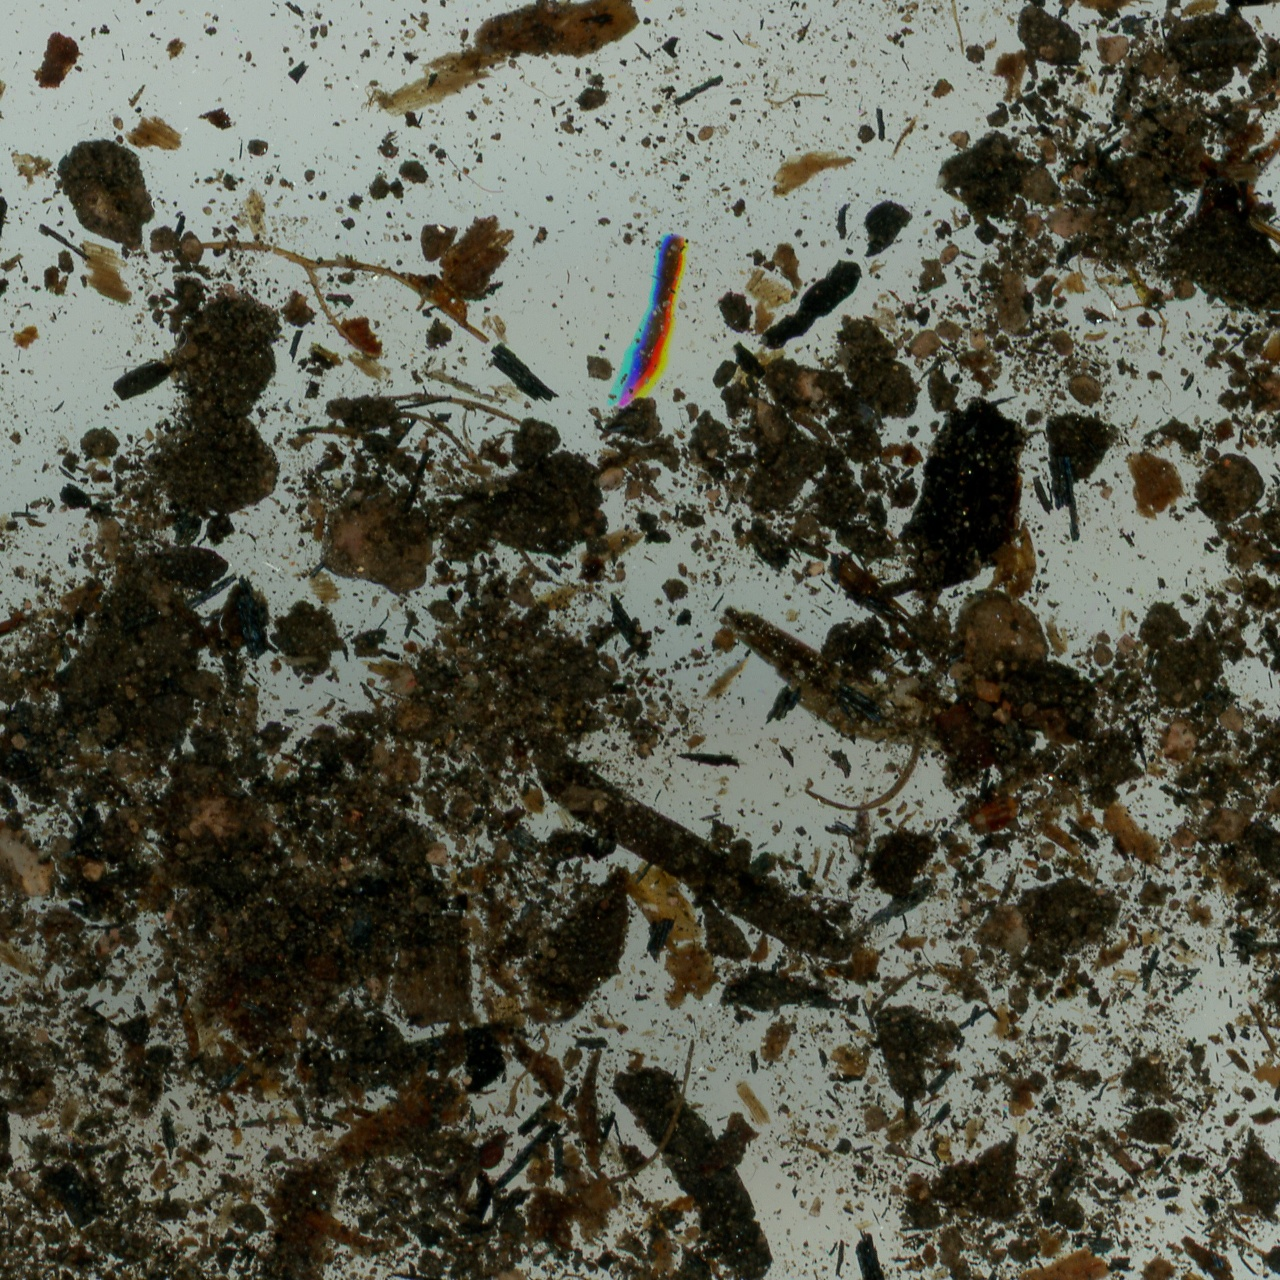arthropod: (472, 1130, 515, 1171)
